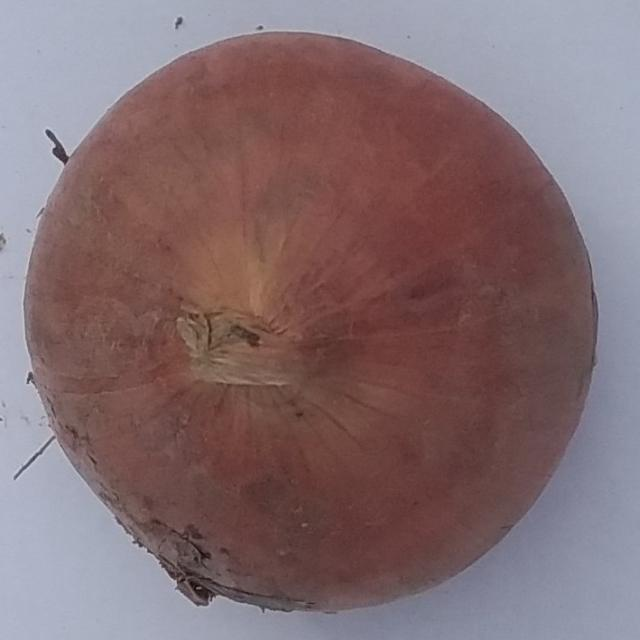onion: (22, 31, 600, 615)
